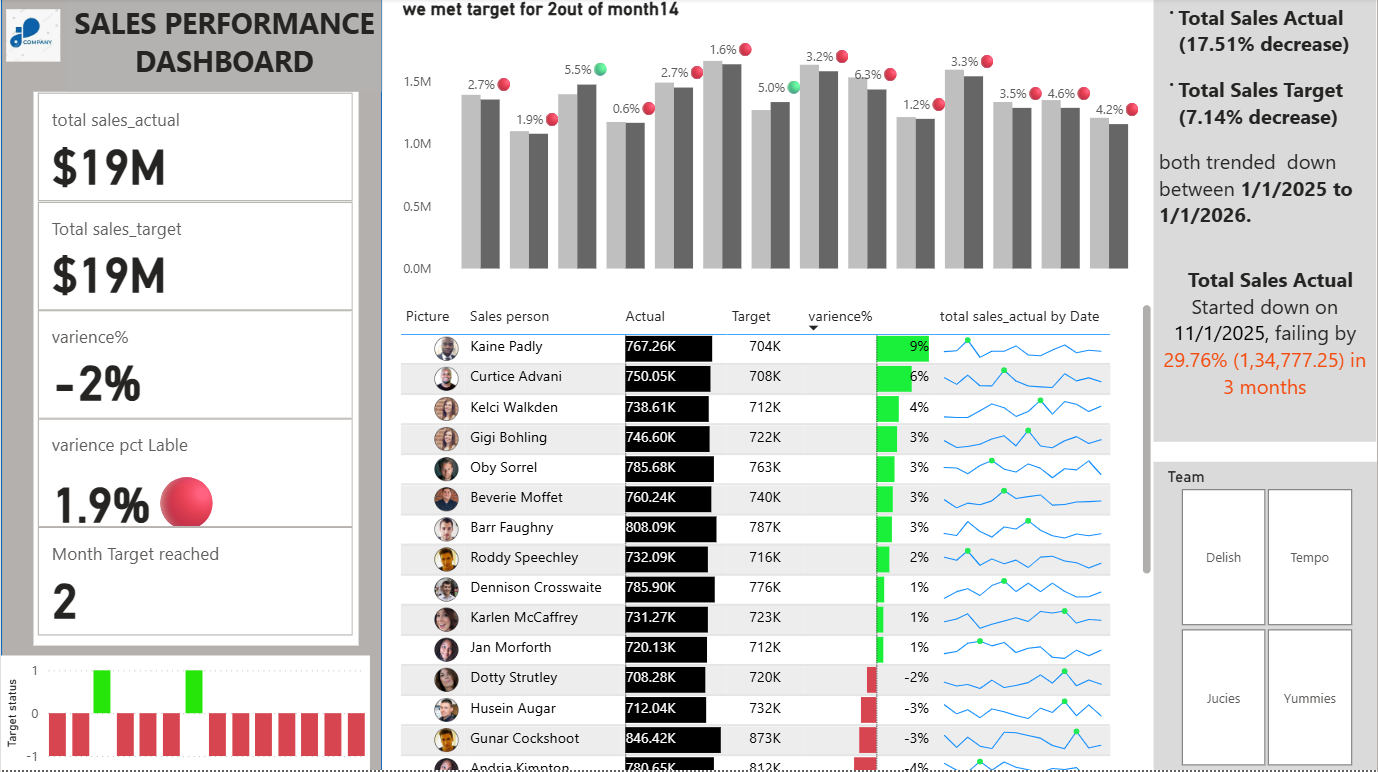

The page's visual inventory and layout, read from the dashboard file:
{"tool":"powerbi","page":{"name":"Page 1","canvas":[1280,720],"ordinal":0},"visuals":[{"type":"shape","box":[0,0,354.5,719.9],"z":0},{"type":"clusteredColumnChart","fields":{"Category":["Calendar.Date.Variation.Date Hierarchy.Year","Calendar.Date.Variation.Date Hierarchy.Quarter","Calendar.Date.Variation.Date Hierarchy.Month","Calendar.Date.Variation.Date Hierarchy.Day"],"Y":["Actual.Total sales_target","Actual.total sales_actual"]},"box":[368.1,0,703.5,265.9],"z":1000},{"type":"columnChart","fields":{"Y":["Actual.Target status"],"Category":["Calendar.Date"]},"box":[0,612.2,343.6,107.7],"z":2000},{"type":"tableEx","fields":{"Values":["dimPeople.Picture","dimPeople.Sales person","Actual.total sales_actual","Actual.Total sales_target","Actual.varience%","SparklineData(Actual.total sales_actual_[Calendar.Date])"]},"box":[368.1,282.2,703.5,437.7],"z":3000},{"type":"cardVisual","fields":{"Data":["Actual.total sales_actual","Actual.Total sales_target","Actual.varience%","Actual.varience pct Lable","Actual.Month Target reached"]},"box":[30,87.3,302.7,515.4],"z":4000},{"type":"slicer","fields":{"Values":["dimPeople.Team"]},"box":[1071.7,430.8,208.6,289.1],"z":5000},{"type":"textbox","box":[1071.7,0,207.2,413.1],"z":6000},{"type":"image","box":[0,0,60,69.5],"z":7000},{"type":"textbox","box":[59.9,0,294.7,86.8],"z":8000}]}

Visuals, with their boxes in screenshot pixels (x1, y1, x2, y2), scaled from the page's 1280x720 canvas onto the 1378x772 screenshot:
shape: region(0, 0, 382, 771)
clusteredColumnChart - Calendar.Date.Variation.Date Hierarchy.Year x Calendar.Date.Variation.Date Hierarchy.Quarter: region(396, 0, 1154, 285)
columnChart - Actual.Target status x Calendar.Date: region(0, 656, 370, 771)
tableEx - dimPeople.Picture x dimPeople.Sales person: region(396, 303, 1154, 771)
cardVisual - Actual.total sales_actual x Actual.Total sales_target: region(32, 94, 358, 646)
slicer - dimPeople.Team: region(1154, 462, 1377, 771)
textbox: region(1154, 0, 1377, 443)
image: region(0, 0, 65, 75)
textbox: region(64, 0, 382, 93)
